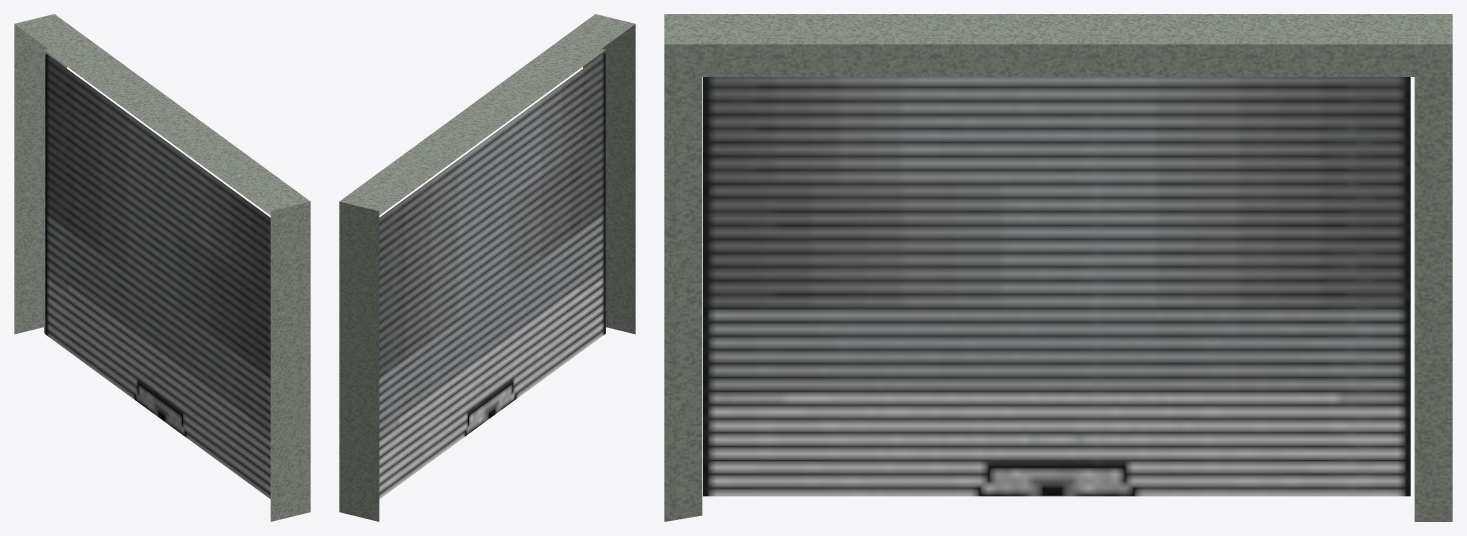
File: BG_GARAGE DOOR2.fbx
3 renders of one model, left to right at view 1: azimuth 30°, elevation 25°; view 2: azimuth 150°, elevation 25°; view 3: azimuth 270°, elevation 25°, orthographic. The views are drawn at different scales.
Visible parts, largest first — view 1: BG_GARAGE_DOOR2; view 2: BG_GARAGE_DOOR2; view 3: BG_GARAGE_DOOR2.
Boxes of the visible parts, x1=… form: BG_GARAGE_DOOR2: x1=14, y1=14, x2=310, y2=521; BG_GARAGE_DOOR2: x1=339, y1=14, x2=635, y2=521; BG_GARAGE_DOOR2: x1=664, y1=14, x2=1452, y2=521.
Bounding box in the file's own units: 45.42 × 334 × 500.
